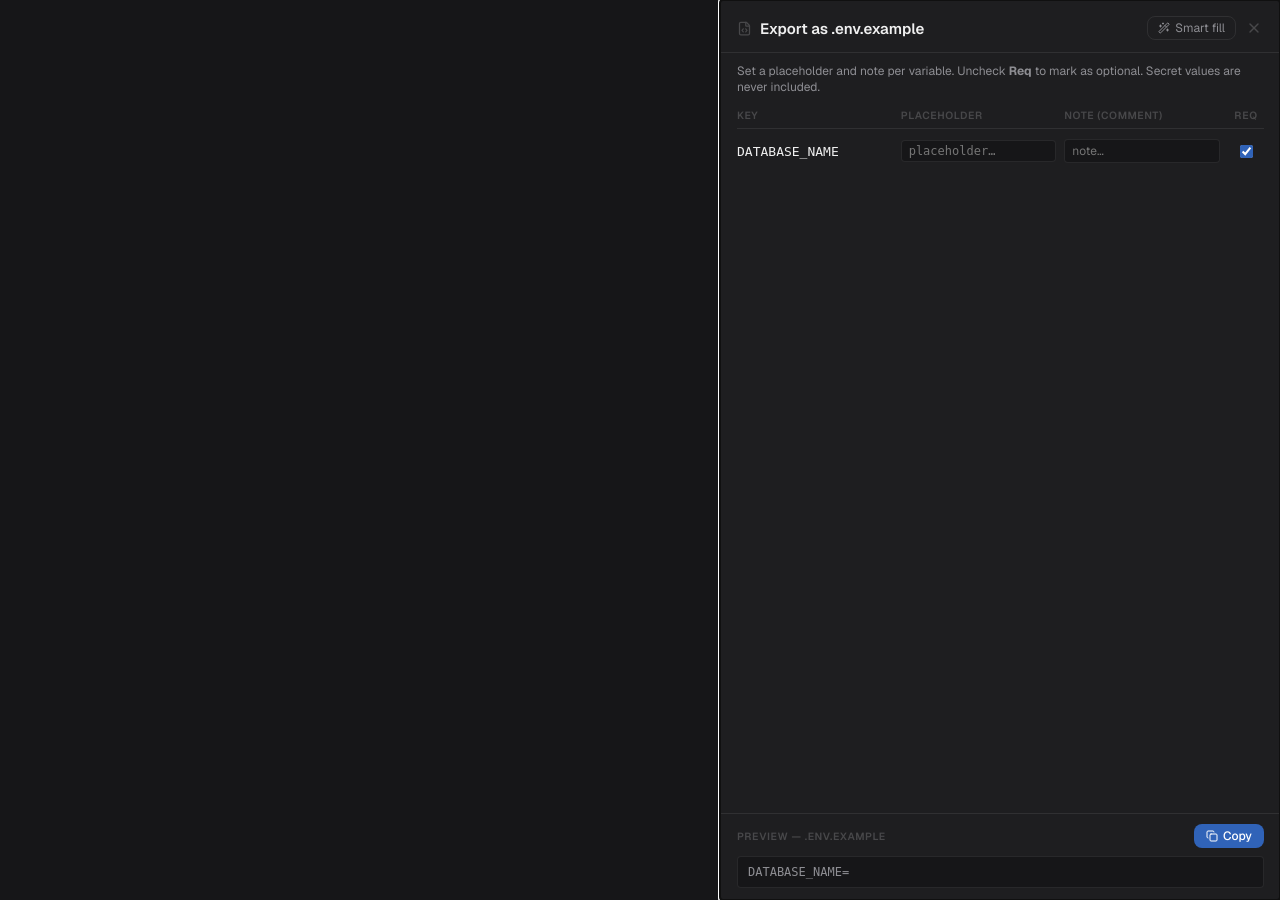
Test case: EnvExampleGeneratorPanel – smartPlaceholder branches & keyboard › 5.24: smart fill fills DATABASE key (no URL) with postgres placeholder
Click the button "Smart fill". click: (1192, 28)
box: [1147, 16, 1236, 40]
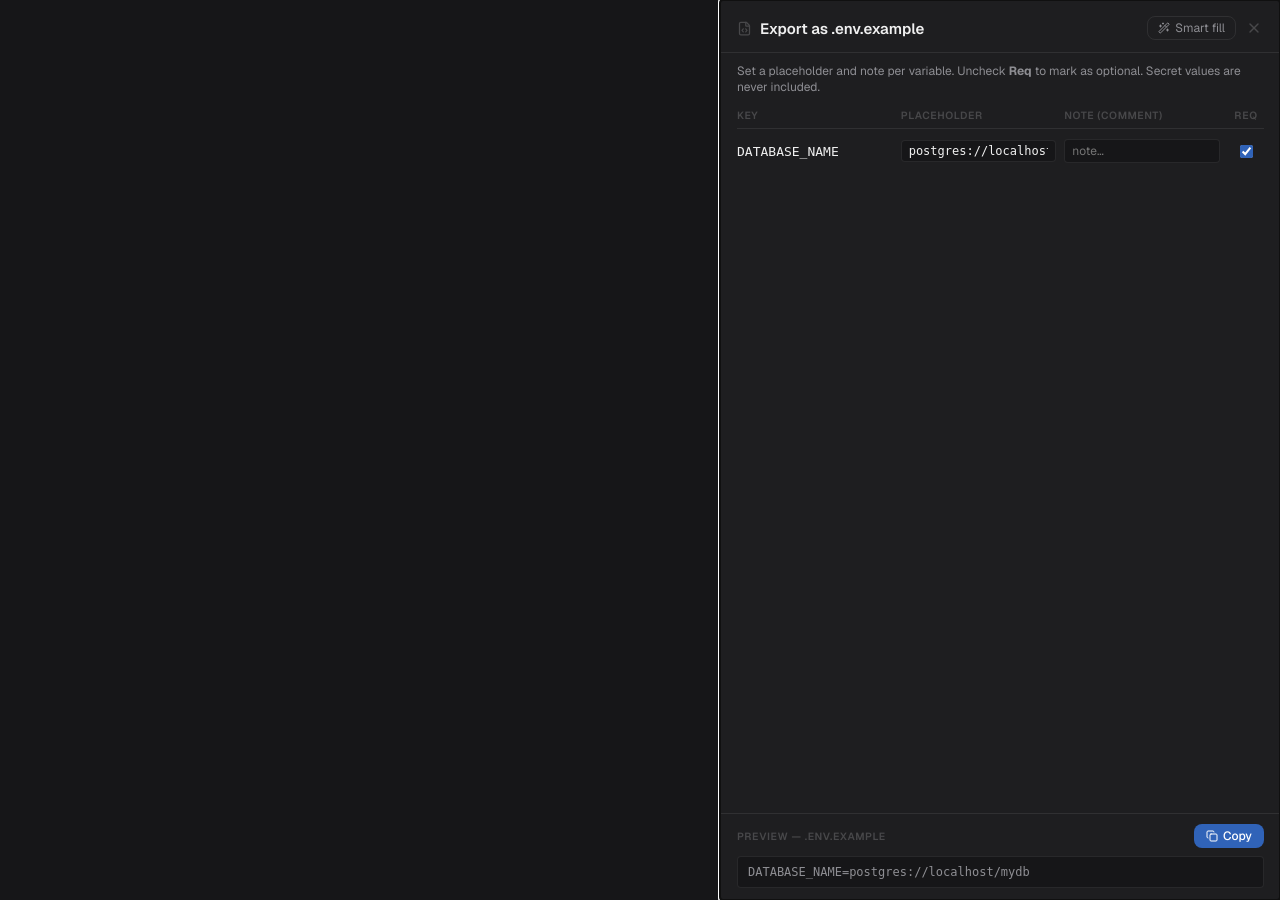
Result: the text with test id "example-preview" shows "postgres://localhost/mydb" at [748, 865, 1030, 879]
